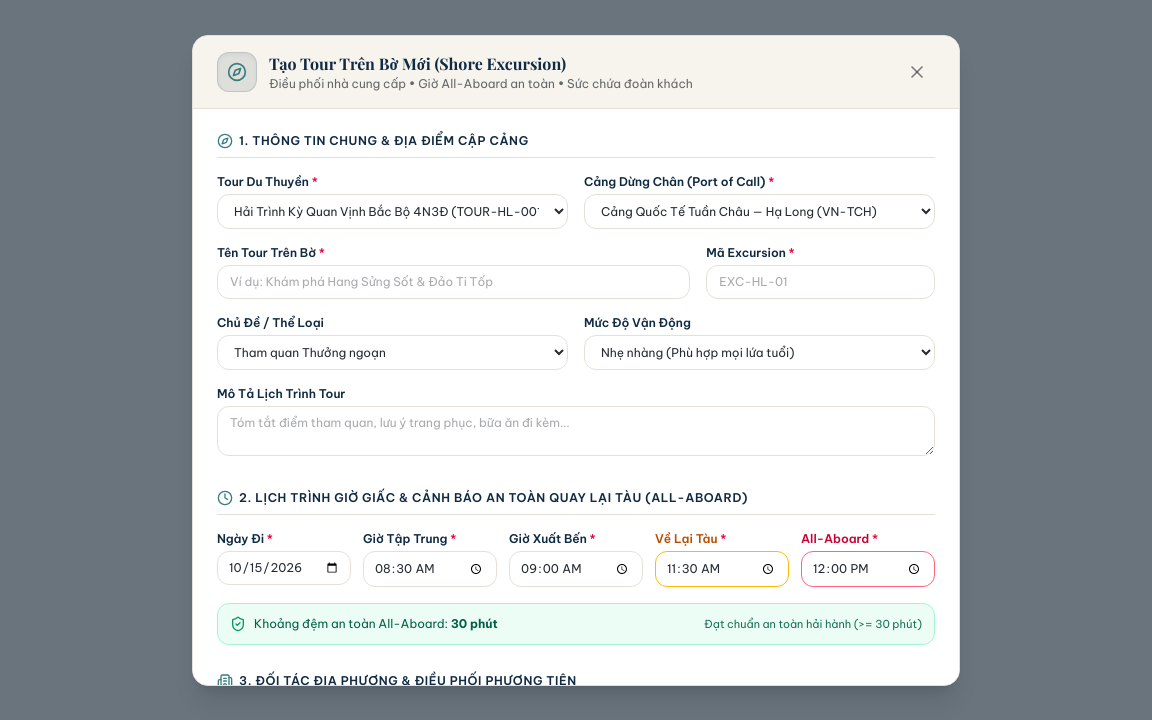
Scenario: ExcursionModal Component Tests (KAN-172 & KAN-174) › validates timing order: departure must be after meeting time
Type "Tour Chợ Đêm" into the field labelled "Tên Tour Trên Bờ *" at (454, 282), box [217,264,690,298]
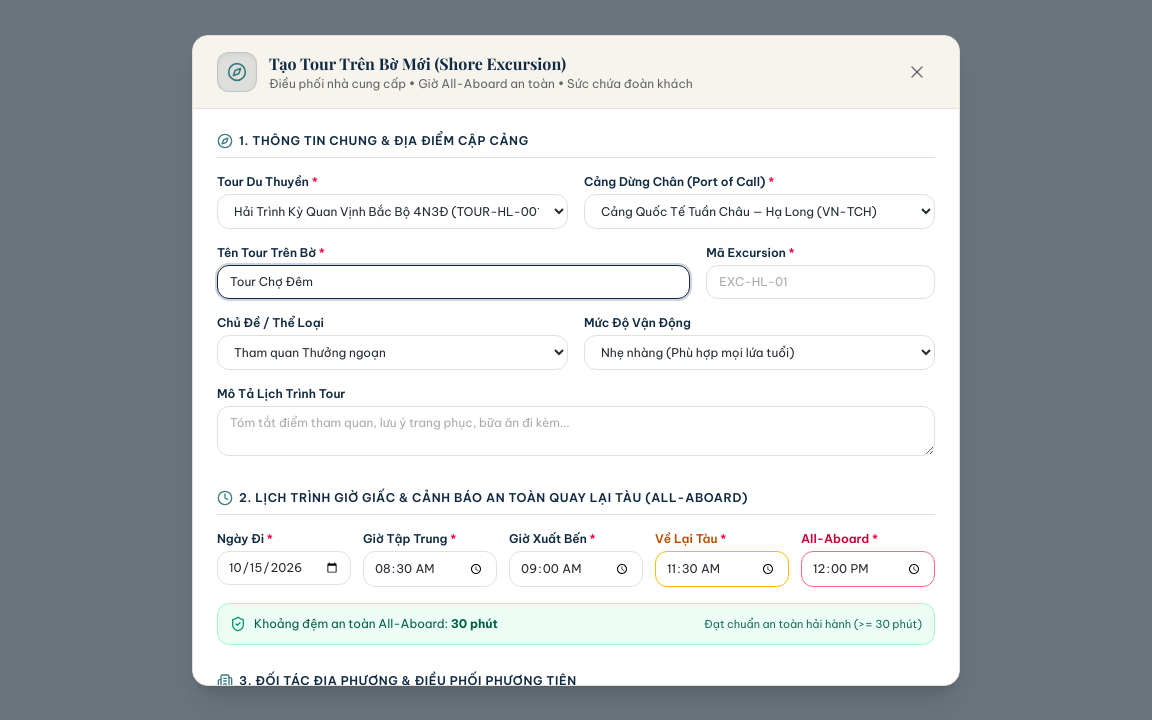
Type "EXC-CHODEM-01" into the field labelled "Mã Excursion *" at (821, 282), box [706,264,935,298]
(page scrolled)
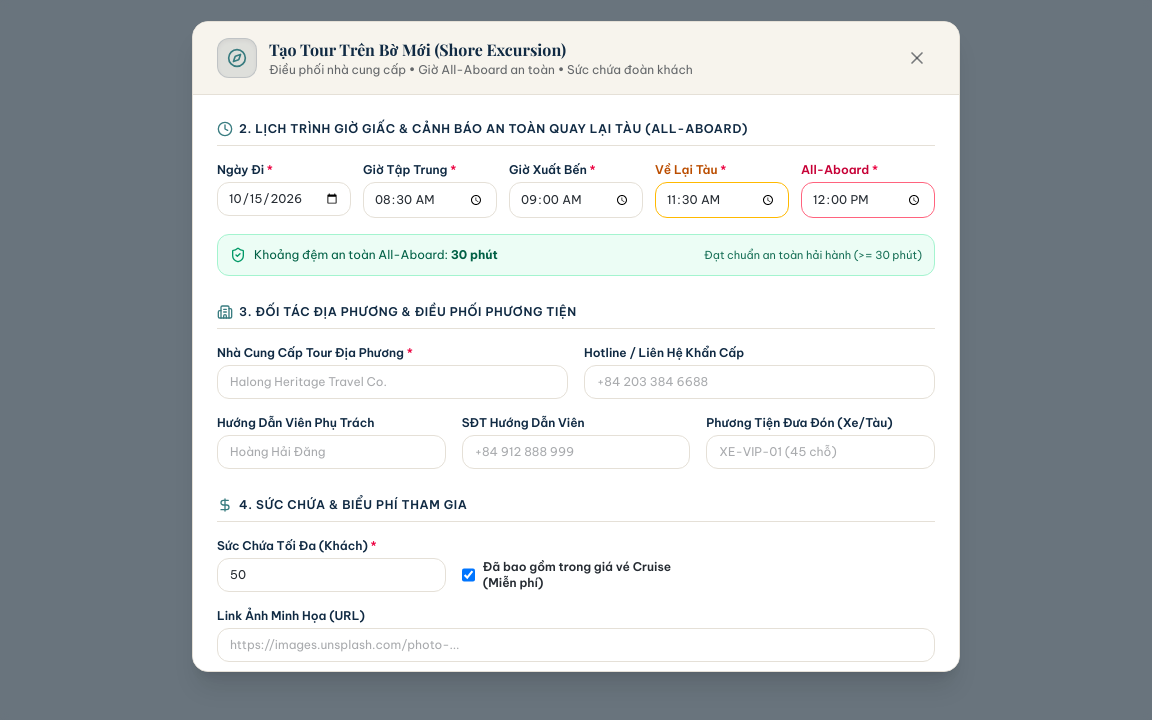
Type "Night Market Co" into the field labelled "Nhà Cung Cấp Tour Địa Phương *" at (392, 382), box [217,365,568,399]
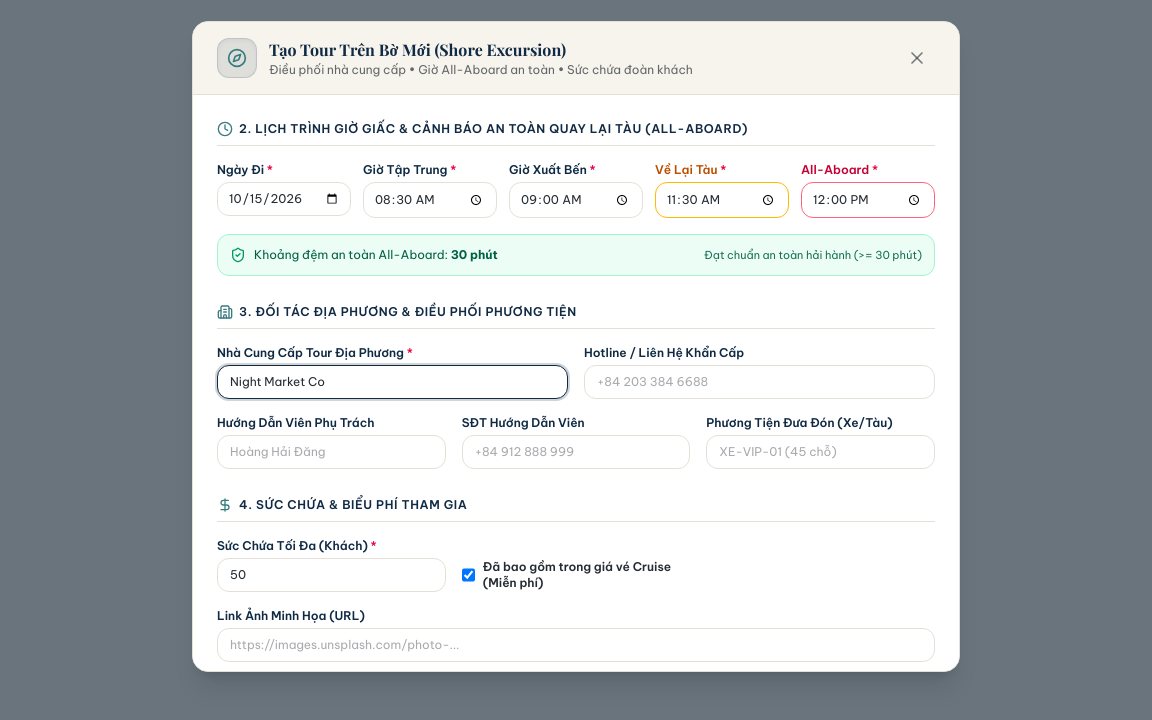
Note: Departure time earlier than meeting time
Replace the text in the time field labelled "Giờ Tập Trung *" with "18:30" at (430, 200), box [363,182,497,218]
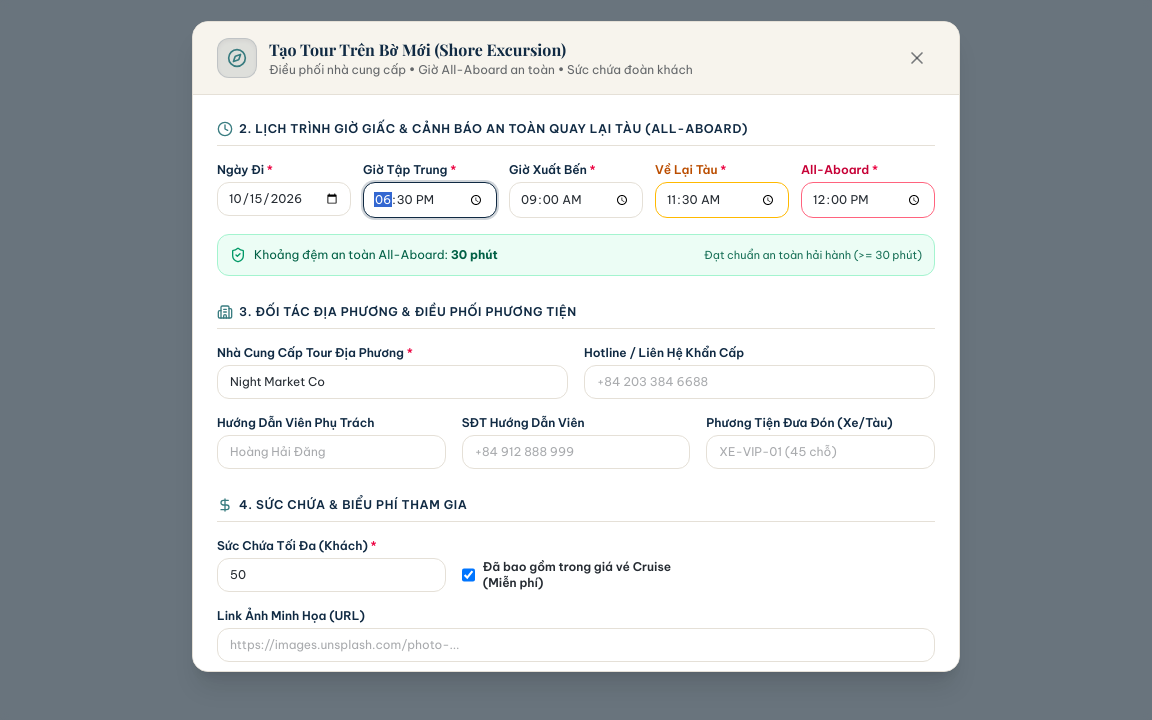
Replace the text in the time field labelled "Giờ Xuất Bến *" with "18:00" at (576, 200), box [509,182,643,218]
(page scrolled)
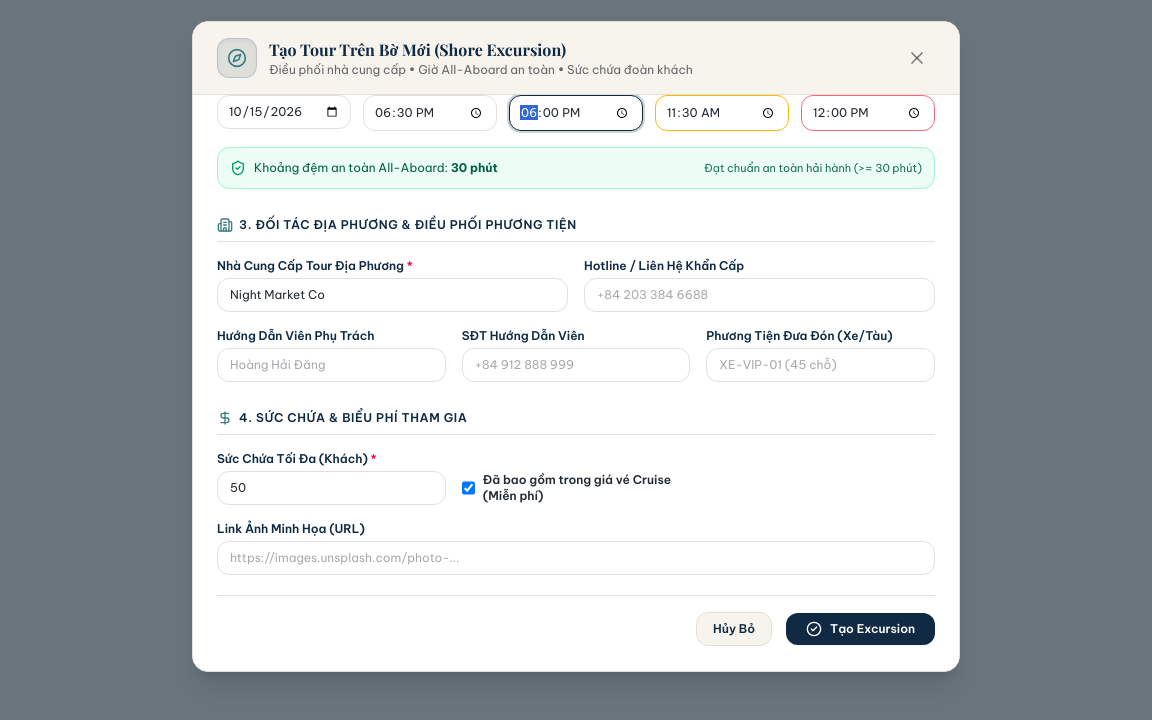
Click the button "Tạo Excursion" at (861, 629), box [786,613,935,645]
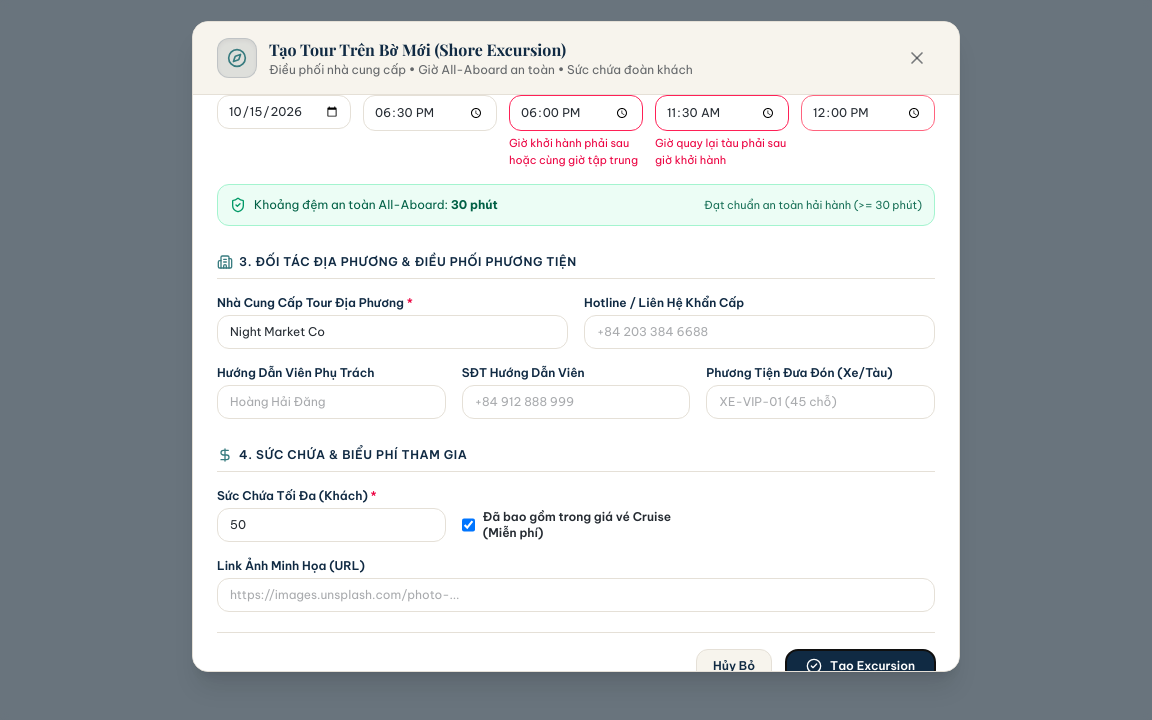
Check: the text "Giờ khởi hành phải sau hoặc cùng giờ tập trung" is shown, box [509,135,643,168]
